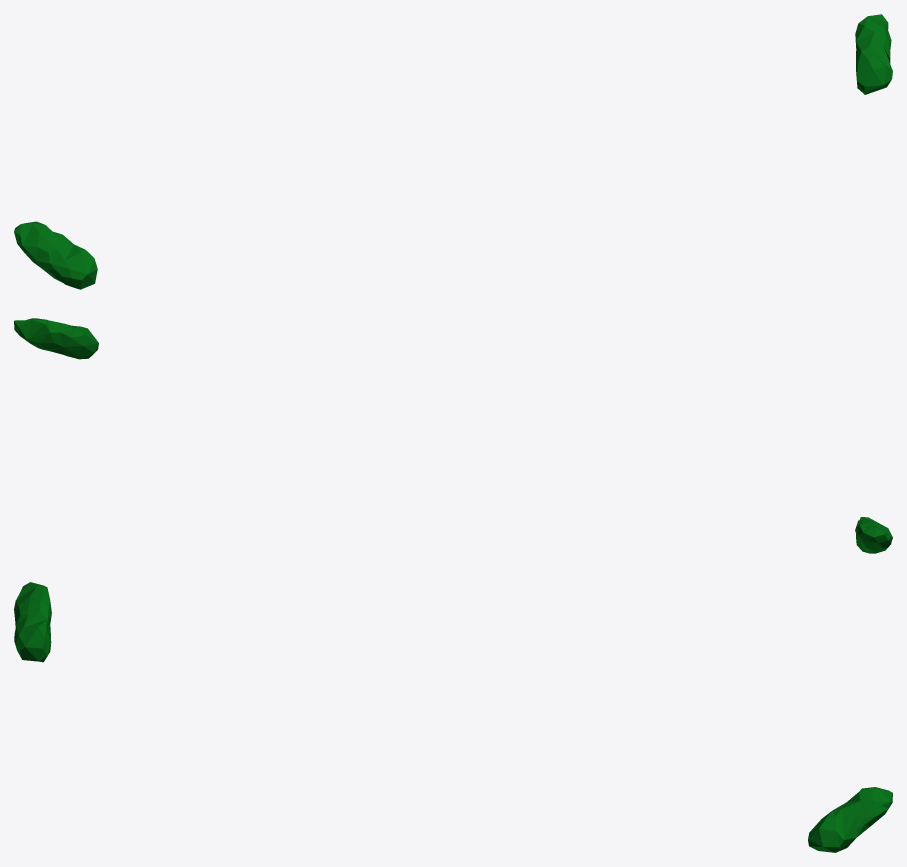
Rendered from 90-PaIL-parainsular cortex, lateral part-('0.0000', '0.4980', '0.0941').obj.
3 renders of one model, top to bottom at view 1: azimuth 30°, elevation 25°; view 2: azimuth 150°, elevation 25°; view 3: azimuth 330°, elevation 25°, orthographic.
Size of the model in its own units: 289 by 16.44 by 23.57.
